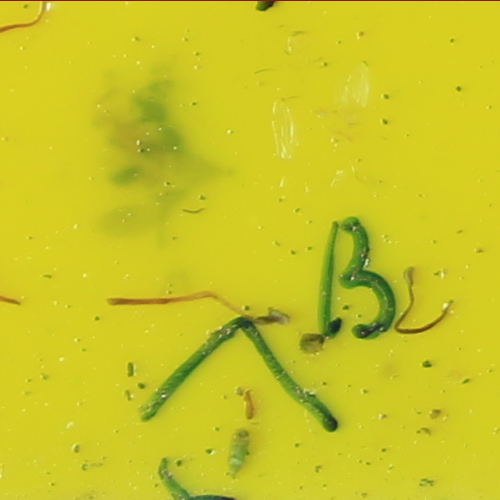Glycaspis: (224, 427, 251, 475)
